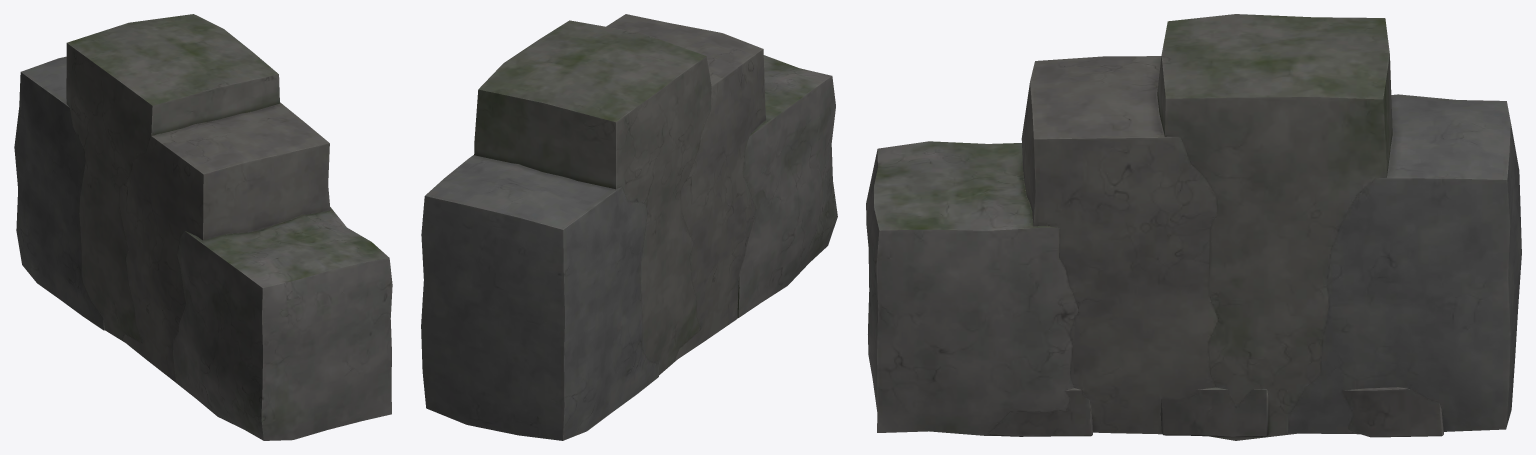
The model's file is cliff_rock.glb.
3 renders of one model, left to right at view 1: azimuth 30°, elevation 25°; view 2: azimuth 150°, elevation 25°; view 3: azimuth 270°, elevation 25°, orthographic. The views are drawn at different scales.
Parts seen in each view (by area): view 1: cliff_rock; view 2: cliff_rock; view 3: cliff_rock.
Part boxes in pixels (left/top/right/bottom): cliff_rock: left=14, top=14, right=392, bottom=440; cliff_rock: left=421, top=14, right=837, bottom=440; cliff_rock: left=866, top=14, right=1521, bottom=440.
Bounding box in the file's own units: 0.9639 × 1.71 × 2.88.
1 material, 1 textured.
